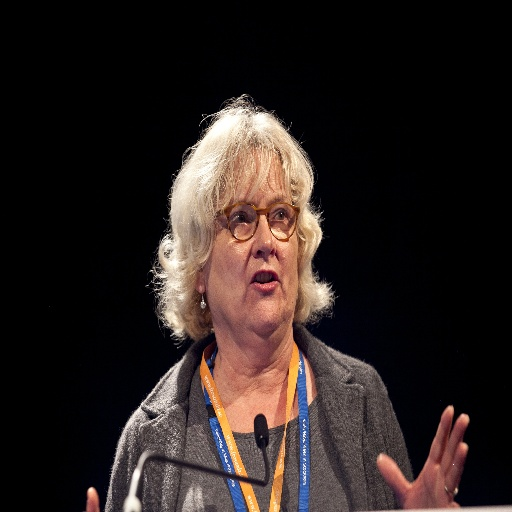hand: (378, 402, 475, 512), (86, 485, 99, 511)
